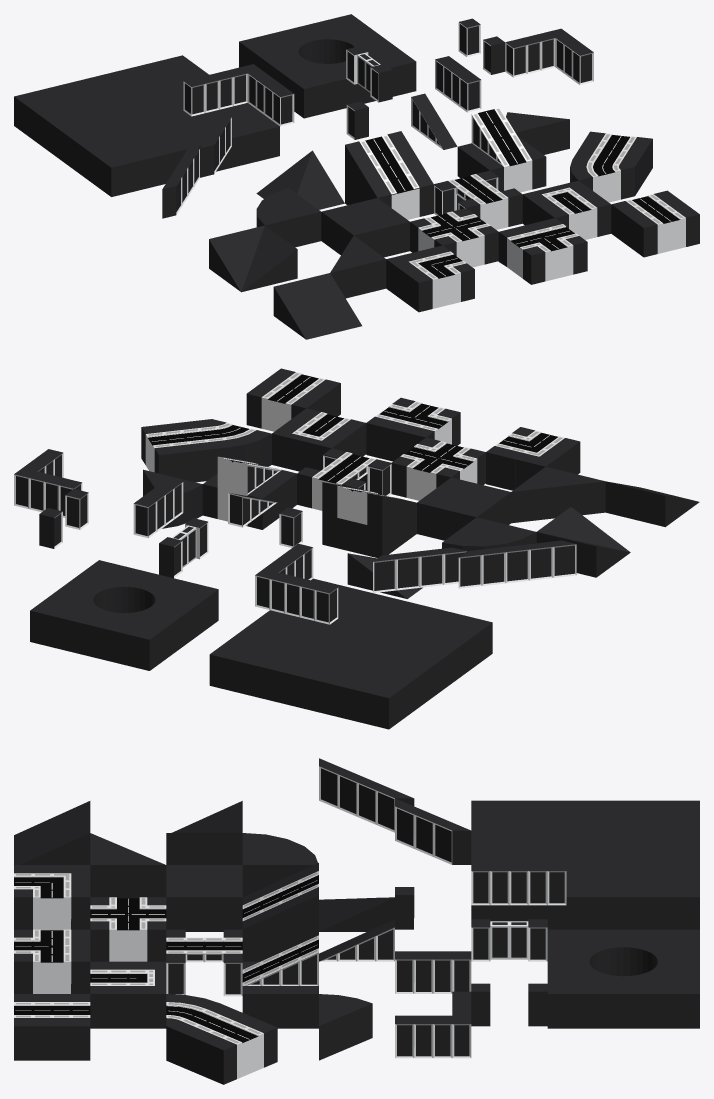
The model's file is roads-walls.glb.
The picture shows the model from 3 angles, top to bottom: view 1: azimuth 30°, elevation 25°; view 2: azimuth 150°, elevation 25°; view 3: azimuth 270°, elevation 25°; orthographic projection. The views are drawn at different scales.
Visible parts, largest first — view 1: BigPlatePlace3x1x3, BigPlatePlaceGeothermalPowerStation, BigPlateRoadUpPlate, BigPlateRoadUp, BigPlateRoadT, BigPlatePlaceAngleUpInside, BigPlateRoadAngle, BigPlateRoadForward, BigWallAngleOutside, BigPlatePlaceUp, BigPlatePlace, BigPlateRoadEnd (+16 smaller); view 2: BigPlatePlace3x1x3, BigPlatePlaceGeothermalPowerStation, BigPlateRoadUpPlate, BigWallAngleOutside, BigPlateRoadForward45, BigWallHalfOutside, BigPlateRoadEnd, BigPlateRoadUp, BigPlateRoadT, BigPlateRoadAngle, BigPlatePlace, BigPlateRoadForward (+16 smaller); view 3: BigPlatePlace3x1x3, BigPlatePlaceGeothermalPowerStation, BigPlateRoadForward45, BigPlateRoadUp, BigPlateRoadUpPlate, BigPlateRoadEnd, BigPlateRoadForward, BigPlatePlace, BigPlateRoadAngle, BigPlateRoadX, BigPlateRoadT, BigWallAngleOutside (+18 smaller).
Boxes of the visible parts, box(x1,y1,x2,y2) form: BigPlatePlace3x1x3: box(14, 55, 279, 196); BigPlatePlaceGeothermalPowerStation: box(239, 14, 416, 118); BigPlateRoadUpPlate: box(345, 131, 433, 219); BigPlateRoadUp: box(457, 107, 546, 192); BigPlateRoadT: box(498, 218, 587, 284); BigPlatePlaceAngleUpInside: box(209, 225, 297, 292); BigPlateRoadAngle: box(386, 245, 474, 312); BigPlateRoadForward: box(611, 190, 699, 257); BigWallAngleOutside: box(183, 64, 294, 126); BigPlatePlaceUp: box(273, 273, 361, 339); BigPlatePlace: box(321, 198, 409, 257); BigPlateRoadEnd: box(522, 180, 611, 239); BigPlatePlace3x1x3: box(209, 578, 492, 729); BigPlatePlaceGeothermalPowerStation: box(30, 560, 218, 670); BigPlateRoadUpPlate: box(322, 482, 416, 557); BigWallAngleOutside: box(255, 543, 338, 624); BigPlateRoadForward45: box(141, 419, 229, 482); BigWallHalfOutside: box(458, 540, 576, 588); BigPlateRoadEnd: box(272, 408, 366, 471); BigPlateRoadUp: box(202, 456, 296, 529); BigPlateRoadT: box(366, 397, 460, 461); BigPlateRoadAngle: box(486, 427, 580, 490); BigPlatePlace: box(417, 477, 511, 540); BigPlateRoadForward: box(246, 368, 340, 431); BigPlatePlace3x1x3: box(471, 800, 699, 929); BigPlatePlaceGeothermalPowerStation: box(547, 929, 699, 1028); BigPlateRoadForward45: box(166, 1003, 277, 1084); BigPlateRoadUp: box(242, 935, 318, 1028); BigPlateRoadUpPlate: box(242, 863, 318, 961); BigPlateRoadEnd: box(90, 961, 166, 1028); BigPlateRoadForward: box(14, 994, 90, 1060); BigPlatePlace: box(166, 865, 242, 931); BigPlateRoadAngle: box(14, 865, 90, 930); BigPlateRoadX: box(90, 897, 166, 961); BigPlateRoadT: box(14, 929, 90, 993); BigWallAngleOutside: box(471, 830, 566, 905).
Bounding box in the file's own units: 33000 × 4050 × 36000.
Materials: 1 (1 with a texture image).
